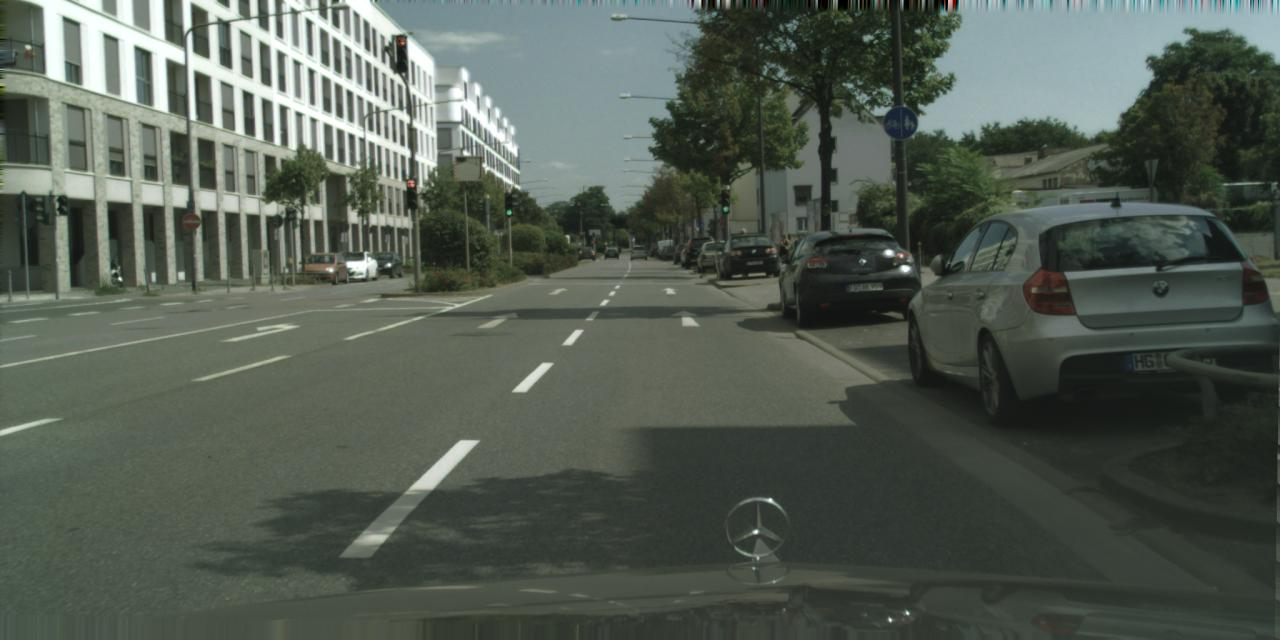ped: (734, 228, 754, 276), (778, 234, 789, 264)
